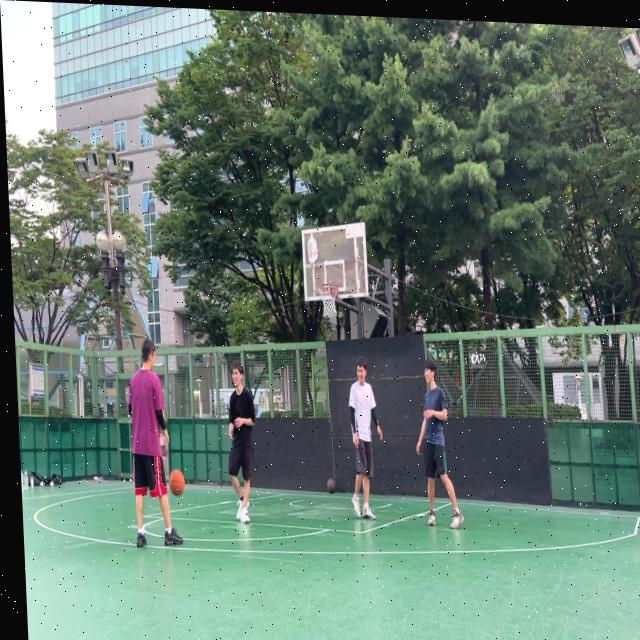basketball: (168, 469, 186, 497), (326, 477, 337, 494)
hoop: (319, 282, 340, 320)
